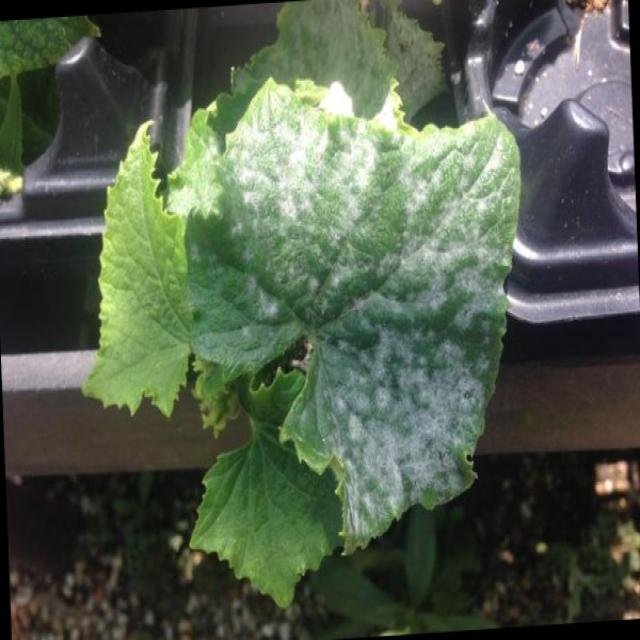Powdery Mildew: (242, 93, 490, 493)
